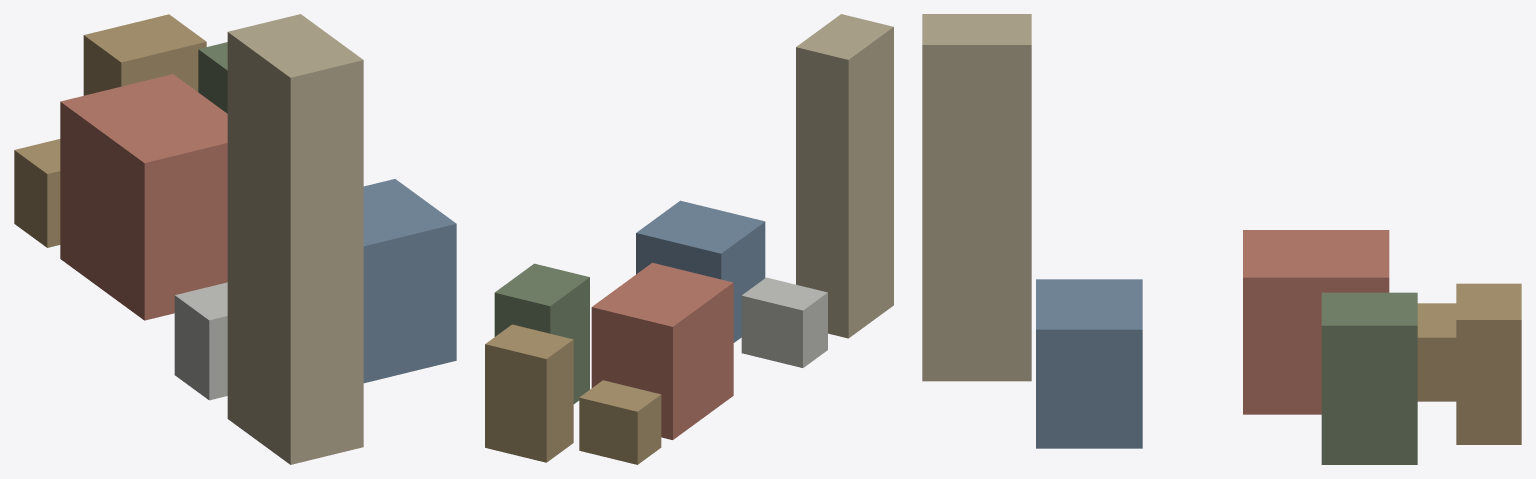
The model's file is synth-09-01.lod2.glb.
3 views of the same model, side by side, from view 1: azimuth 30°, elevation 25°; view 2: azimuth 150°, elevation 25°; view 3: azimuth 270°, elevation 25° (orthographic). The views are drawn at different scales.
Visible parts, largest first — view 1: synth-09-01; view 2: synth-09-01; view 3: synth-09-01.
Part boxes in pixels (x1,y1,x2,y2): synth-09-01: (14,14,456,464); synth-09-01: (485,14,893,464); synth-09-01: (922,14,1521,464).
Bounding box in the file's own units: 39.76 × 54.48 × 87.91.
